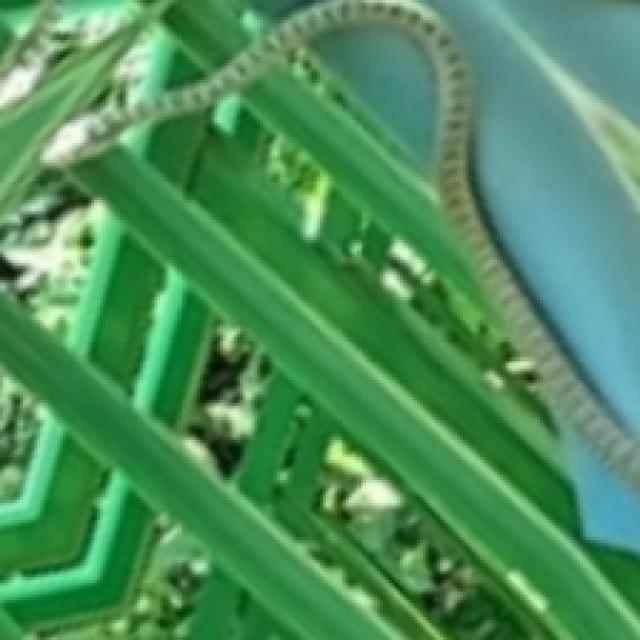paradise tree snake: (0, 0, 637, 637), (311, 23, 440, 171)
